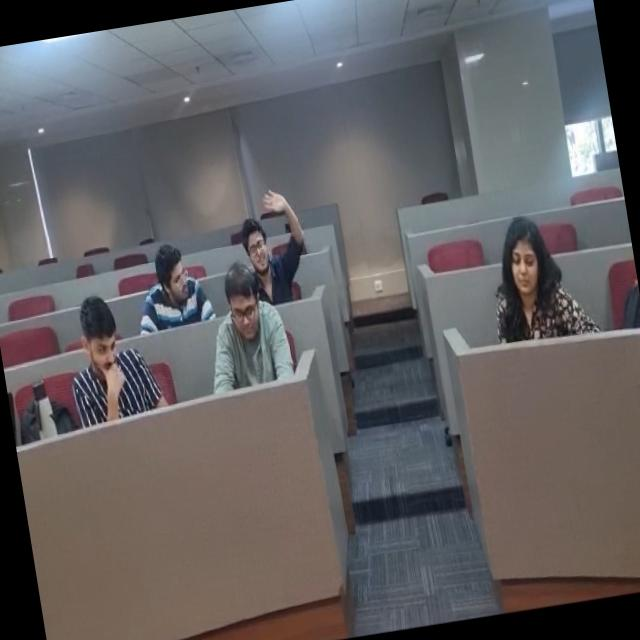cheating: (58, 292, 154, 440), (120, 223, 212, 340)
non-cheating: (465, 206, 588, 343), (197, 254, 291, 404), (228, 178, 336, 302)
